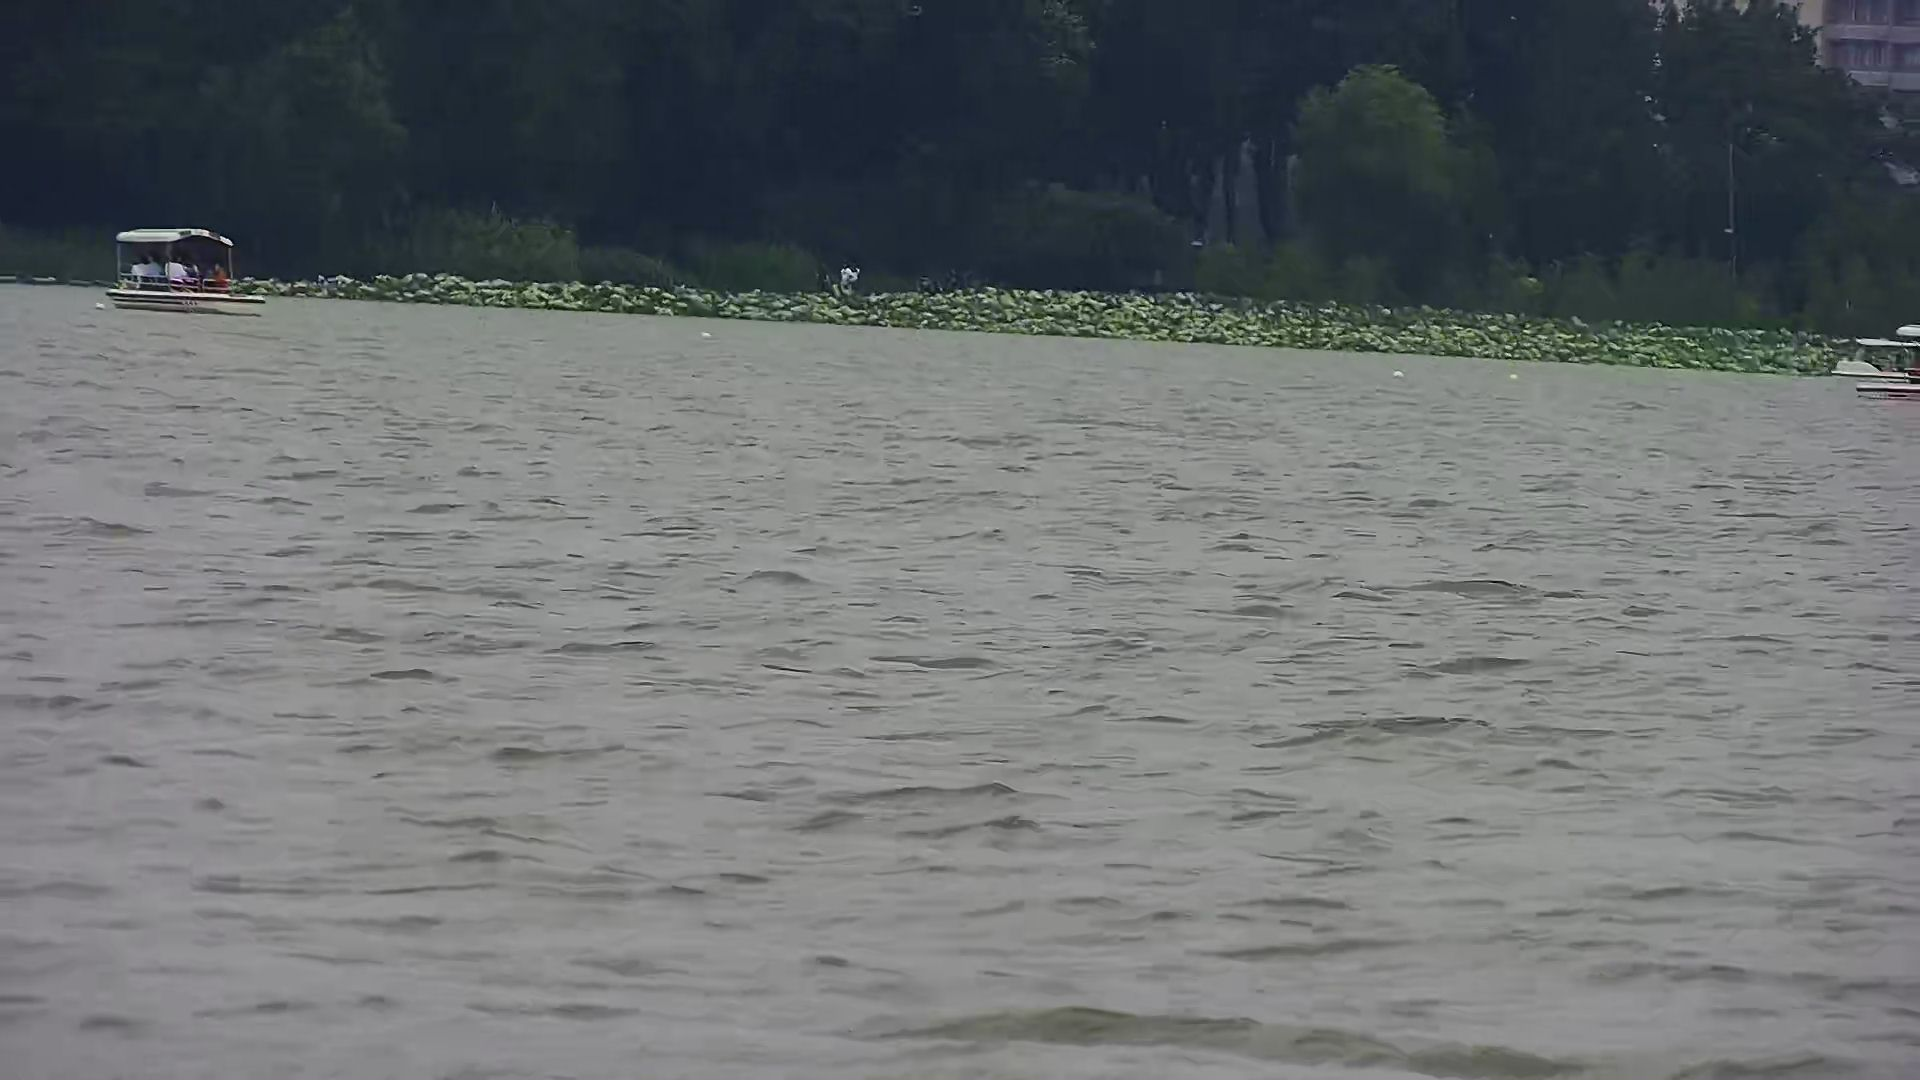boat: (95, 211, 266, 320)
